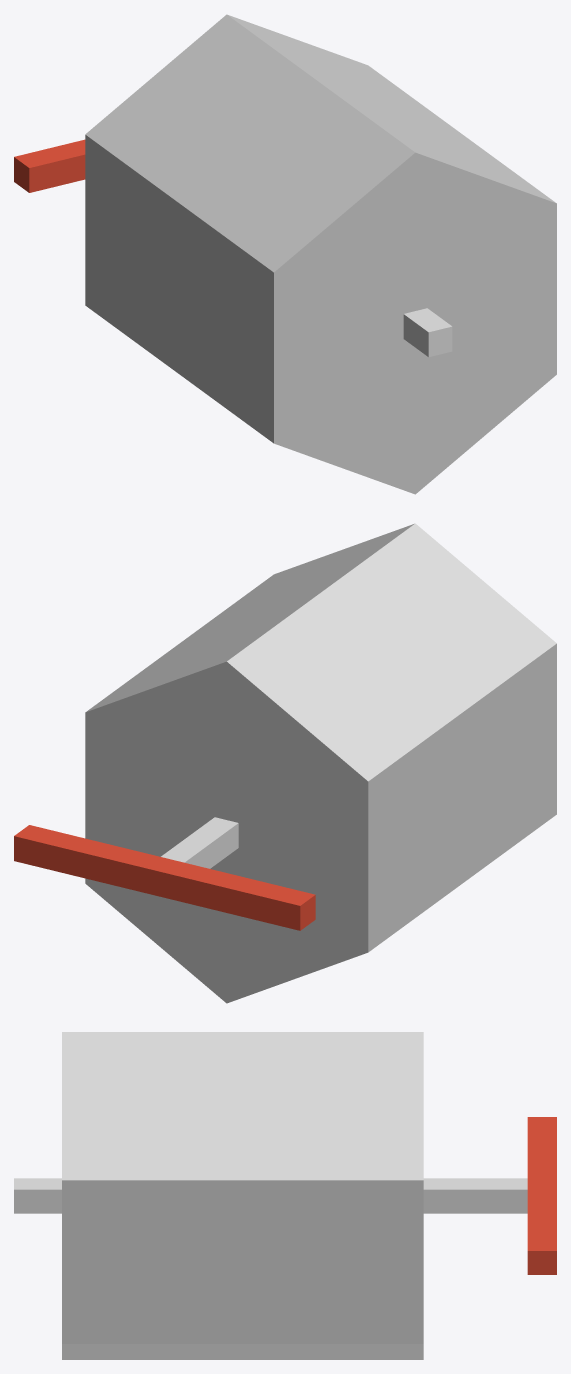
Rendered from Latch.glb.
3 renders of one model, top to bottom at view 1: azimuth 30°, elevation 25°; view 2: azimuth 150°, elevation 25°; view 3: azimuth 270°, elevation 25°, orthographic. The views are drawn at different scales.
Visible parts, largest first — view 1: Housing, Latch; view 2: Housing, Latch; view 3: Housing, Latch.
Part boxes in pixels (x1,y1,x2,y2): Housing: [85, 14, 556, 494]; Latch: [14, 139, 452, 357]; Housing: [85, 523, 556, 1003]; Latch: [14, 817, 315, 930]; Housing: [62, 1032, 423, 1359]; Latch: [14, 1117, 556, 1274].
Size of the model in its own units: 7.41 by 8.46 by 12.71.
